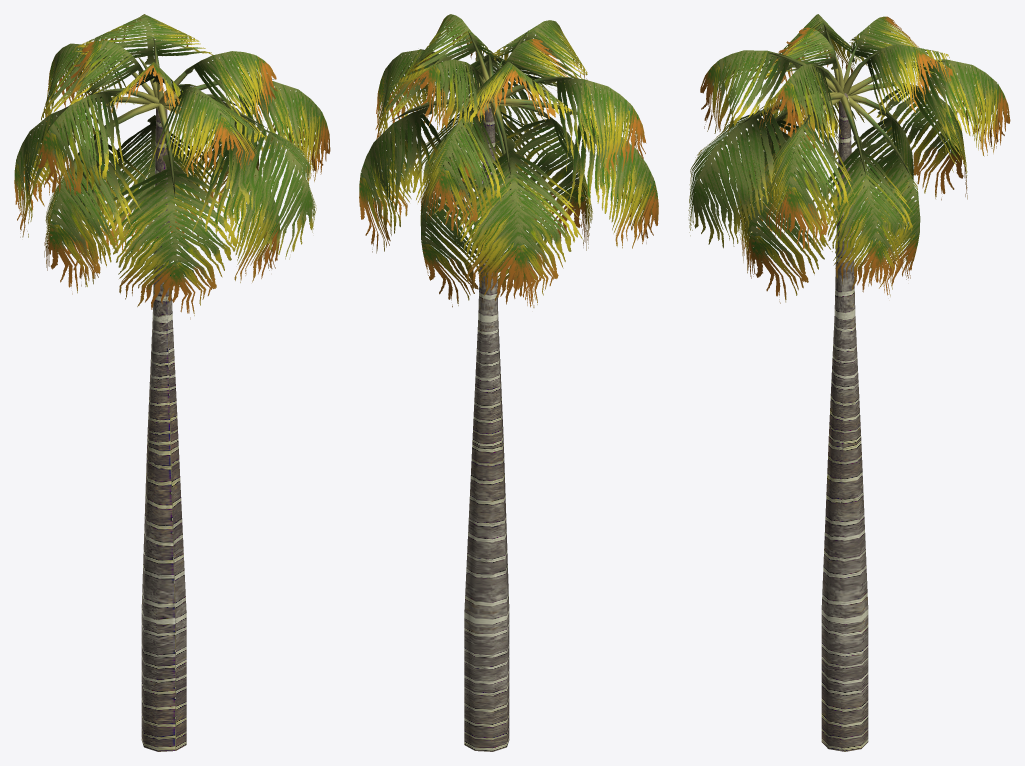
Rendered from tree_roystonea_regia_d.dae.
3 views of the same model, side by side, from view 1: azimuth 30°, elevation 25°; view 2: azimuth 150°, elevation 25°; view 3: azimuth 270°, elevation 25° (orthographic).
Visible parts, largest first — view 1: D; view 2: D; view 3: D.
Part boxes in pixels (box(x1,y1,x2,y2)): D: box(14, 14, 330, 751); D: box(359, 14, 658, 751); D: box(688, 14, 1010, 751).
Bounding box in the file's own units: 11.91 × 11.78 × 28.3.
